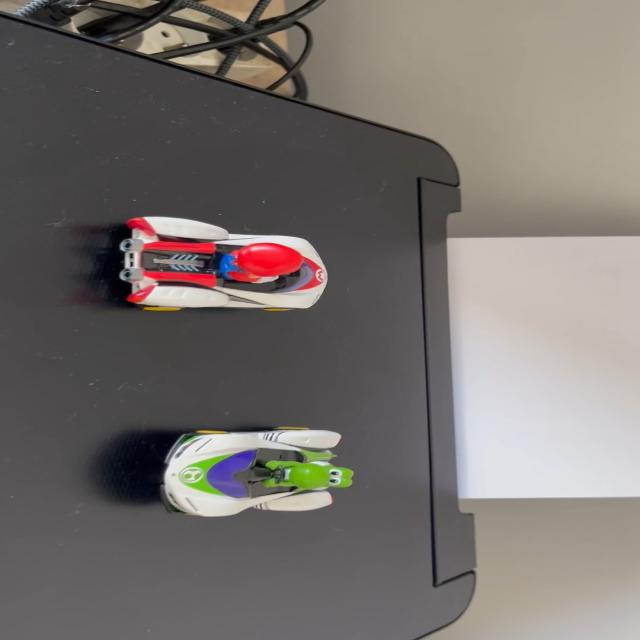mario: (104, 218, 345, 324)
yoshi: (148, 413, 370, 523)
